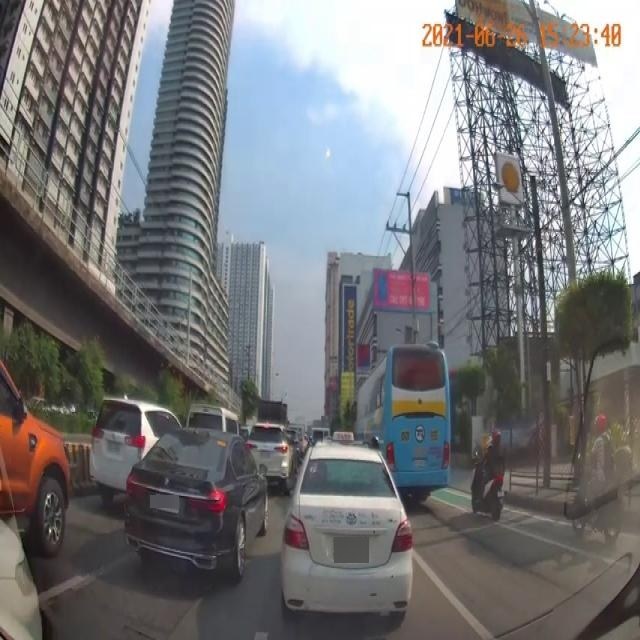bus: (353, 342, 459, 516)
car: (278, 438, 419, 614), (136, 423, 272, 586), (98, 391, 178, 499), (248, 416, 294, 496)
motorcycle: (570, 407, 624, 551), (471, 428, 514, 526)
